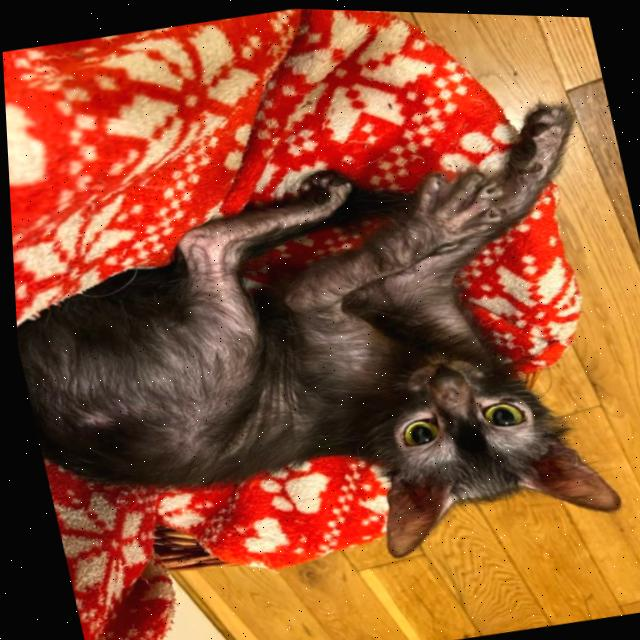Lykoi: (3, 80, 640, 623)
